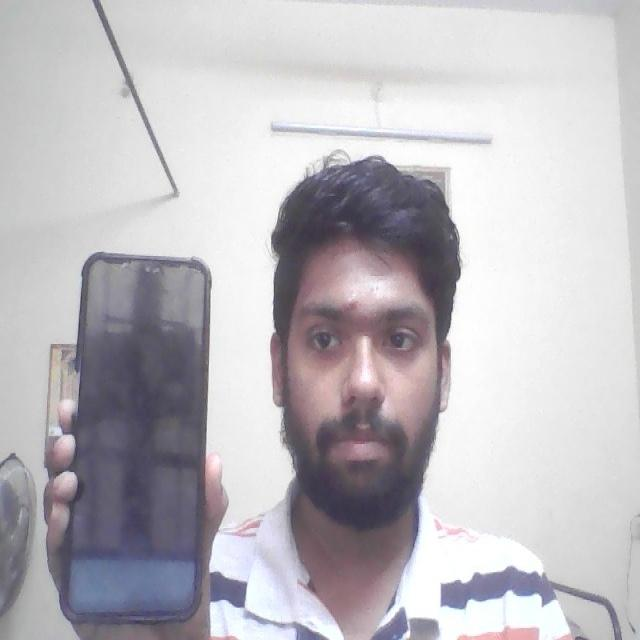Mobile: (52, 248, 216, 632)
